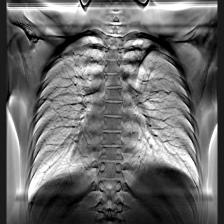tuberculosis: (19, 25, 208, 221)
